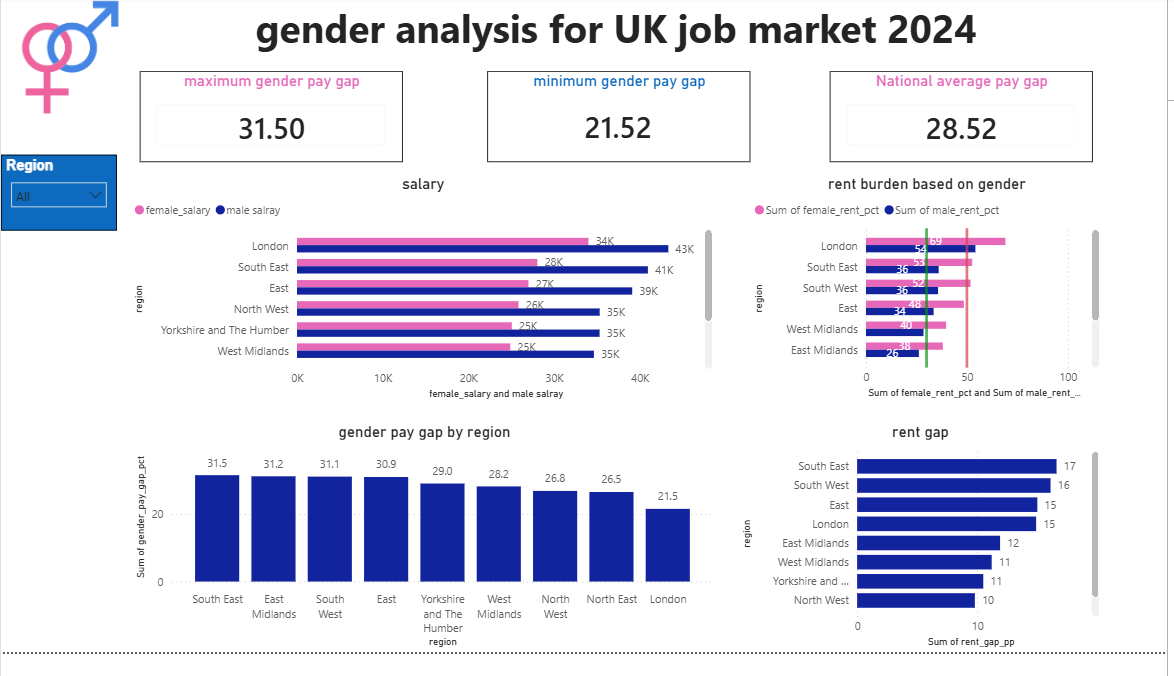

The dashboard page shown, as its layout file describes it:
{"tool":"powerbi","page":{"name":"Page 2","canvas":[1280,720],"ordinal":1},"visuals":[{"type":"cardVisual","title":"maximum gender pay gap","fields":{"Data":["Max(Market_CLEAN.gender_pay_gap_pct)"]},"box":[151.6,81.9,288.6,100.3],"z":0},{"type":"textbox","box":[273.9,0,869.4,74.6],"z":1000},{"type":"cardVisual","title":"minimum gender pay gap","fields":{"Data":["Min(Market_CLEAN.gender_pay_gap_pct)"]},"box":[533.2,81.9,288.6,100.3],"z":2000},{"type":"cardVisual","title":"National average pay gap","fields":{"Data":["Avg(Market_CLEAN.gender_pay_gap_pct)"]},"box":[909.8,81.9,288.6,100.3],"z":3000},{"type":"clusteredBarChart","title":"salary ","fields":{"Category":["Market_CLEAN.region"],"Y":["Sum(Market_CLEAN.female_median)","Sum(Market_CLEAN.male_median)"]},"box":[141.8,196.9,644.4,251.9],"z":4000},{"type":"clusteredColumnChart","title":"gender pay gap by region","fields":{"Category":["Market_CLEAN.region"],"Y":["Sum(Market_CLEAN.gender_pay_gap_pct)"]},"box":[143.1,468.3,644.4,251.9],"z":5000},{"type":"clusteredBarChart","title":"rent burden based on gender","fields":{"Category":["Market_CLEAN.region"],"Y":["Sum(Market_CLEAN.female_rent_pct)","Sum(Market_CLEAN.male_rent_pct)"]},"box":[821.7,196.9,388.9,250.7],"z":6000},{"type":"clusteredBarChart","title":"rent gap","fields":{"Category":["Market_CLEAN.region"],"Y":["Sum(Market_CLEAN.rent_gap_pp)"]},"box":[808.3,468.3,402.3,251.9],"z":7000},{"type":"slicer","title":"Region","fields":{"Values":["Market_CLEAN.region"]},"box":[0,174.9,127.2,83.2],"z":8000},{"type":"image","box":[0,0,151.6,132.1],"z":9000}]}

Visuals, with their boxes in screenshot pixels (x1, y1, x2, y2), scaled from the page's 1280x720 canvas onto the 1174x676 screenshot:
"maximum gender pay gap" cardVisual: (139, 77, 404, 171)
textbox: (251, 0, 1049, 70)
"minimum gender pay gap" cardVisual: (489, 77, 754, 171)
"National average pay gap" cardVisual: (834, 77, 1099, 171)
"salary " clusteredBarChart: (130, 185, 721, 421)
"gender pay gap by region" clusteredColumnChart: (131, 440, 722, 675)
"rent burden based on gender" clusteredBarChart: (754, 185, 1110, 420)
"rent gap" clusteredBarChart: (741, 440, 1110, 675)
"Region" slicer: (0, 164, 117, 242)
image: (0, 0, 139, 124)
